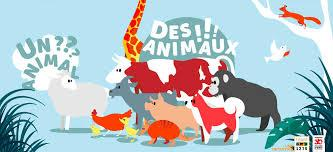Non_Gorille: (62, 3, 284, 147)
